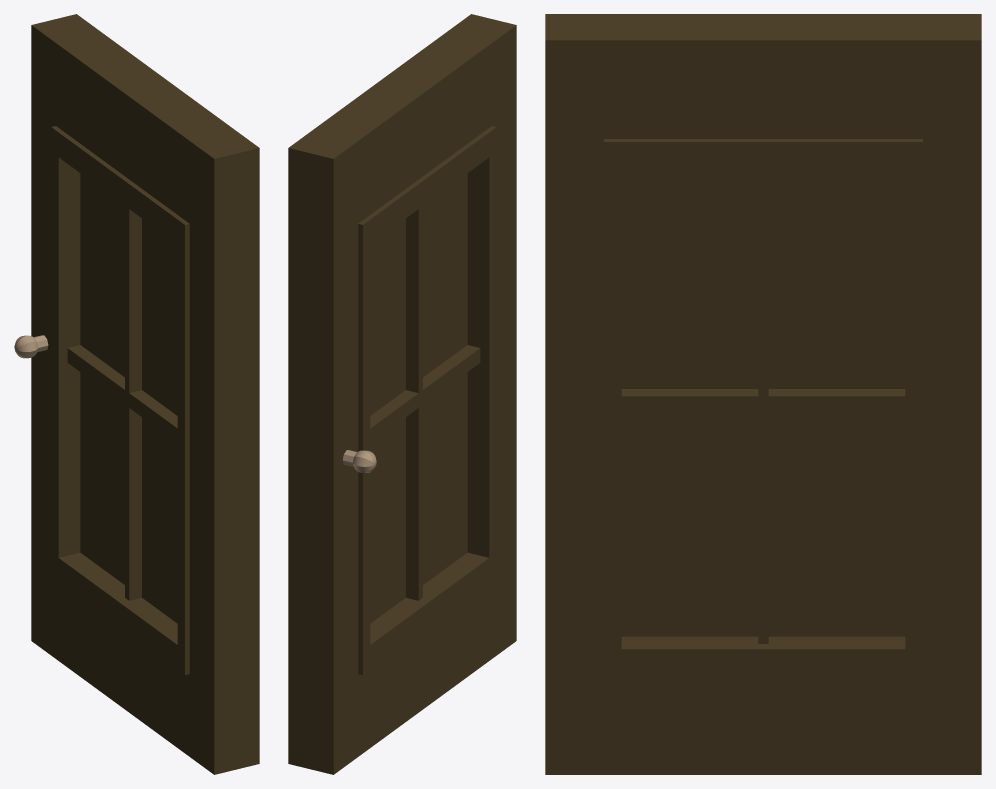
Rendered from Door Model.fbx.
3 renders of one model, left to right at view 1: azimuth 30°, elevation 25°; view 2: azimuth 150°, elevation 25°; view 3: azimuth 270°, elevation 25°, orthographic. The views are drawn at different scales.
Visible parts, largest first — view 1: Cube; view 2: Cube; view 3: Cube.
Part boxes in pixels (bbox=[...]): Cube: bbox=[14, 14, 259, 774]; Cube: bbox=[288, 14, 516, 774]; Cube: bbox=[545, 14, 981, 774].
Bounding box in the file's own units: 34.67 × 260 × 140.
